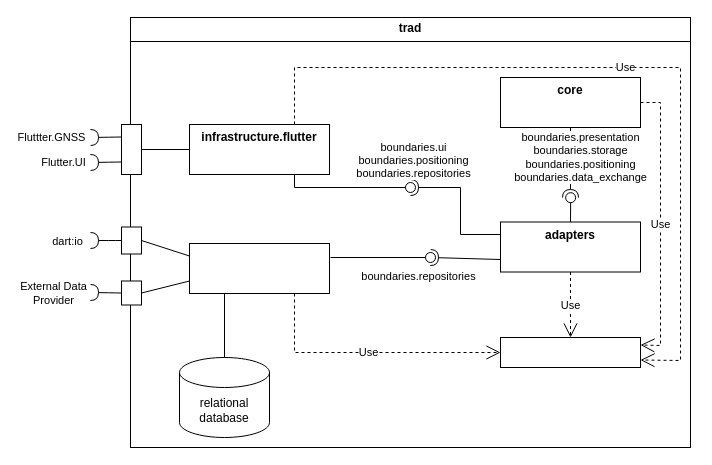
The diagram is 712 pixels wide and 465 high, and some of its shapes have lost their labels. Here are the shapes that lost their labels. From the top down, the centre of each, then its label:
At point (259, 268): "infrastructure.vanilla".
At point (570, 352): "crosscutting".
